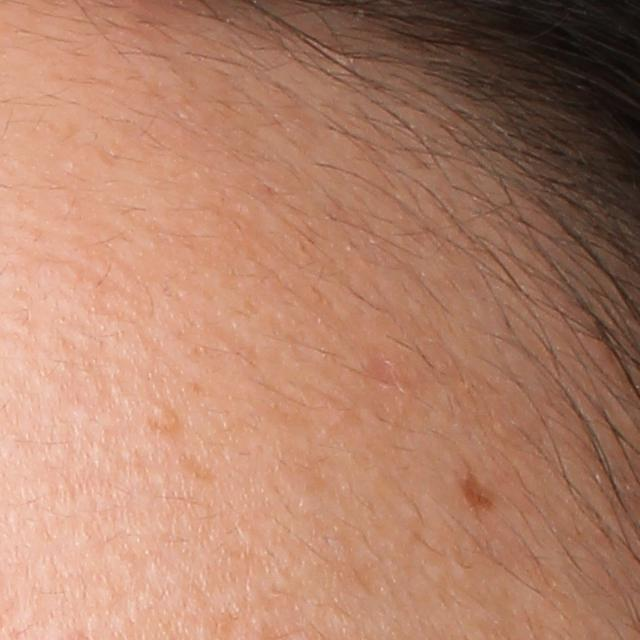comedo: (149, 402, 175, 424)
